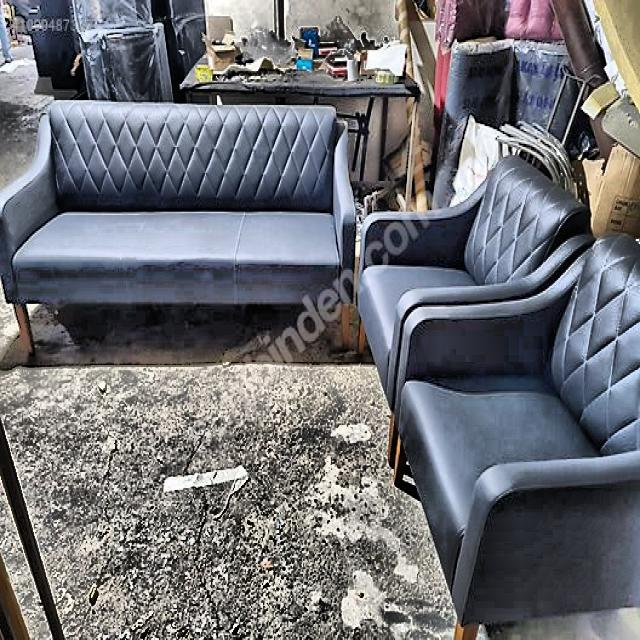sofa: (393, 229, 639, 637), (0, 97, 356, 357), (355, 154, 595, 483)
